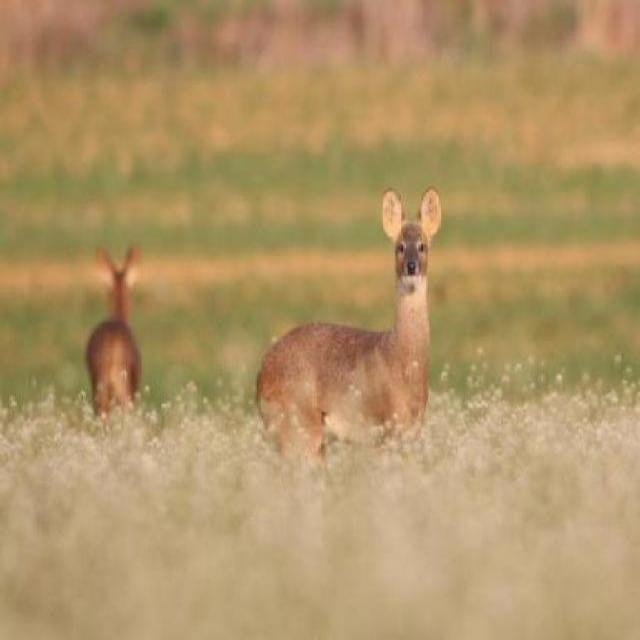deer: (255, 184, 442, 460)
